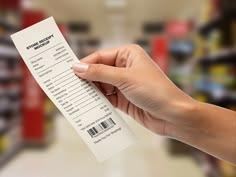receipt-in-hand: (11, 17, 134, 160)
